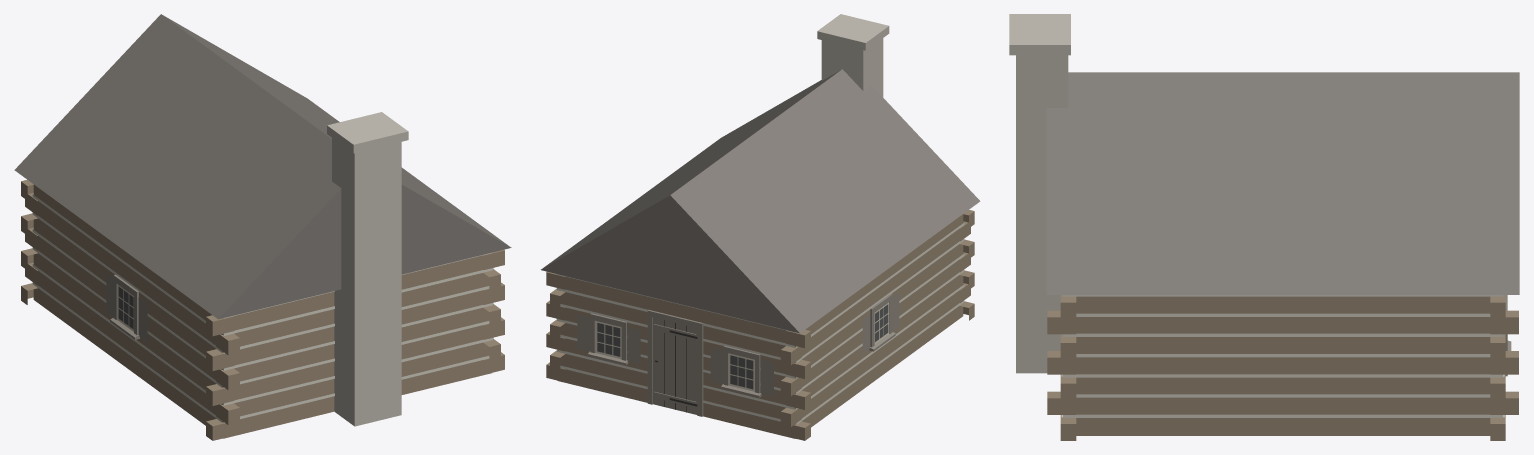
Rendered from recon_1835_west_048__inferred_1835.glb.
3 views of the same model, side by side, from view 1: azimuth 30°, elevation 25°; view 2: azimuth 150°, elevation 25°; view 3: azimuth 270°, elevation 25° (orthographic). The views are drawn at different scales.
Parts seen in each view (by area): view 1: recon_1835_west_048__inferred_1835; view 2: recon_1835_west_048__inferred_1835; view 3: recon_1835_west_048__inferred_1835.
Part boxes in pixels (x1,y1,x2,y2): recon_1835_west_048__inferred_1835: (14,14,511,440); recon_1835_west_048__inferred_1835: (541,14,980,440); recon_1835_west_048__inferred_1835: (1009,14,1519,440).
Size of the model in its own units: 5.99 by 5.55 by 7.78.
